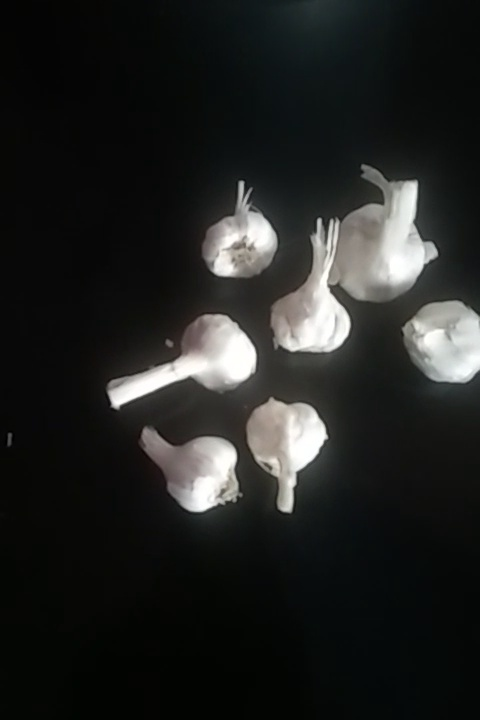garlic: (119, 311, 259, 419), (321, 193, 437, 300), (131, 421, 250, 519), (238, 394, 324, 513), (281, 244, 360, 367), (189, 194, 291, 283), (396, 298, 480, 381)
